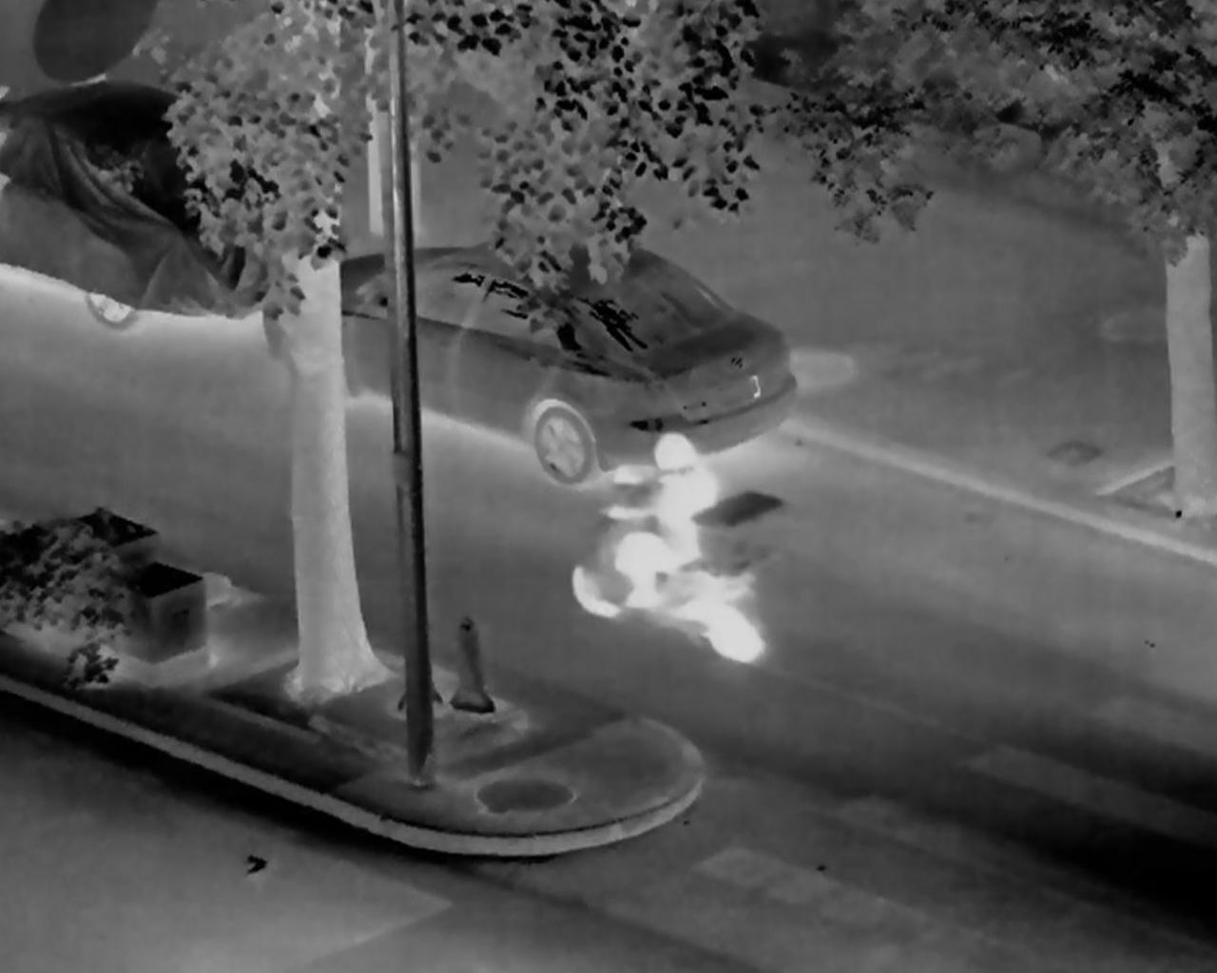person: (603, 431, 719, 606)
